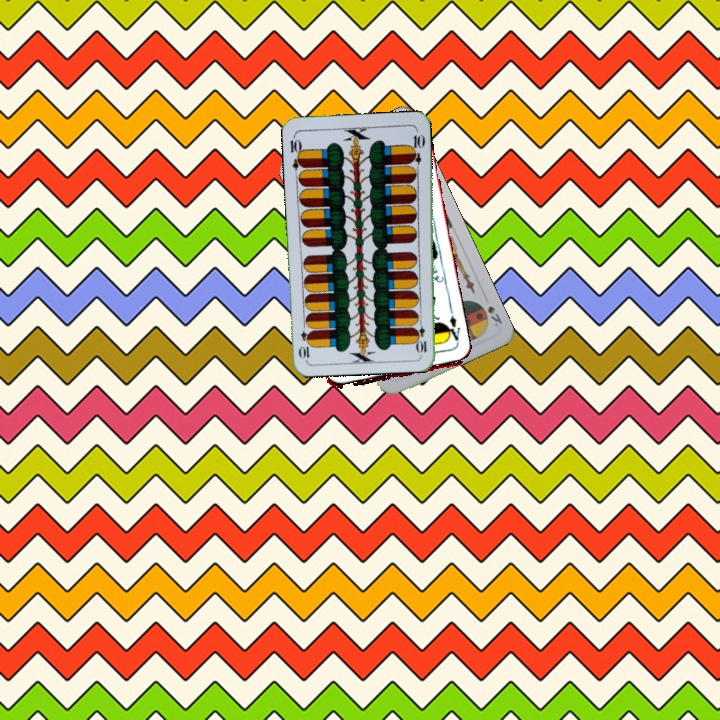E10: (286, 131, 306, 172), (414, 315, 429, 355)
EA: (441, 309, 462, 350)
SK: (483, 301, 505, 329)
